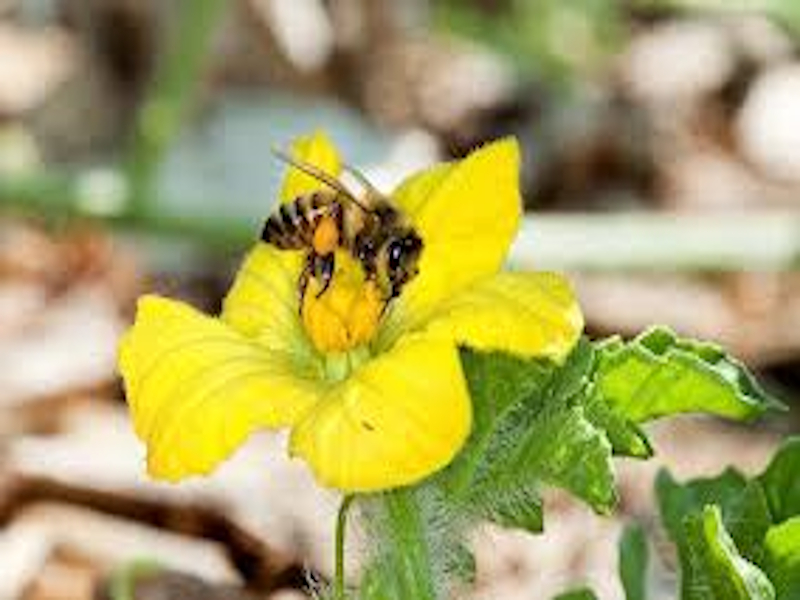abeja: (243, 139, 434, 314)
